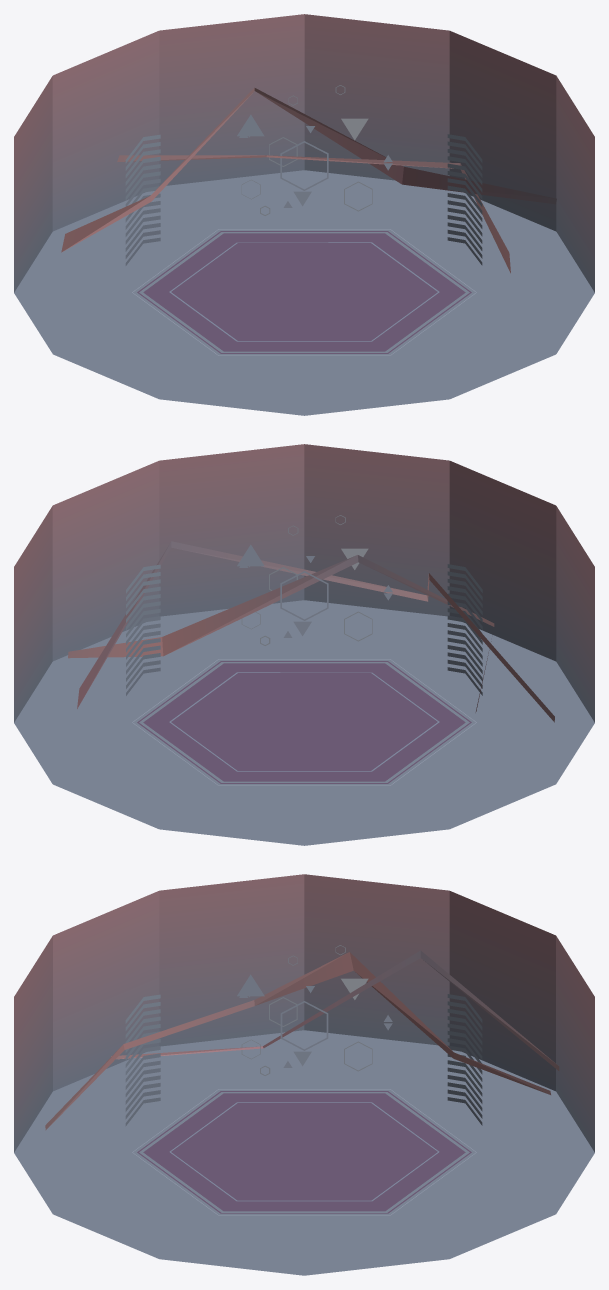
Rendered from Abstract_Geometric_Environment.glb.
The picture shows the model from 3 angles, top to bottom: view 1: azimuth 30°, elevation 25°; view 2: azimuth 150°, elevation 25°; view 3: azimuth 270°, elevation 25°; orthographic projection.
Parts seen in each view (by area): view 1: unnamed; view 2: unnamed; view 3: unnamed.
Part boxes in pixels (<box>): unnamed: <box>14,14,594,415</box>; unnamed: <box>14,444,594,845</box>; unnamed: <box>14,874,594,1275</box>.
Bounding box in the file's own units: 10.8 × 3.2 × 10.8.
